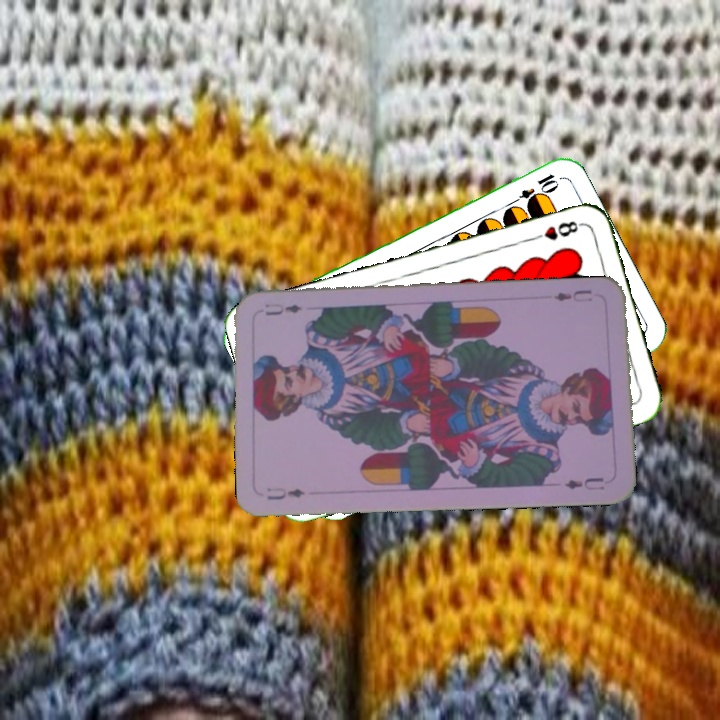E10: (505, 169, 561, 210)
EU: (263, 483, 307, 503), (549, 286, 595, 304)
H8: (527, 217, 585, 244)
